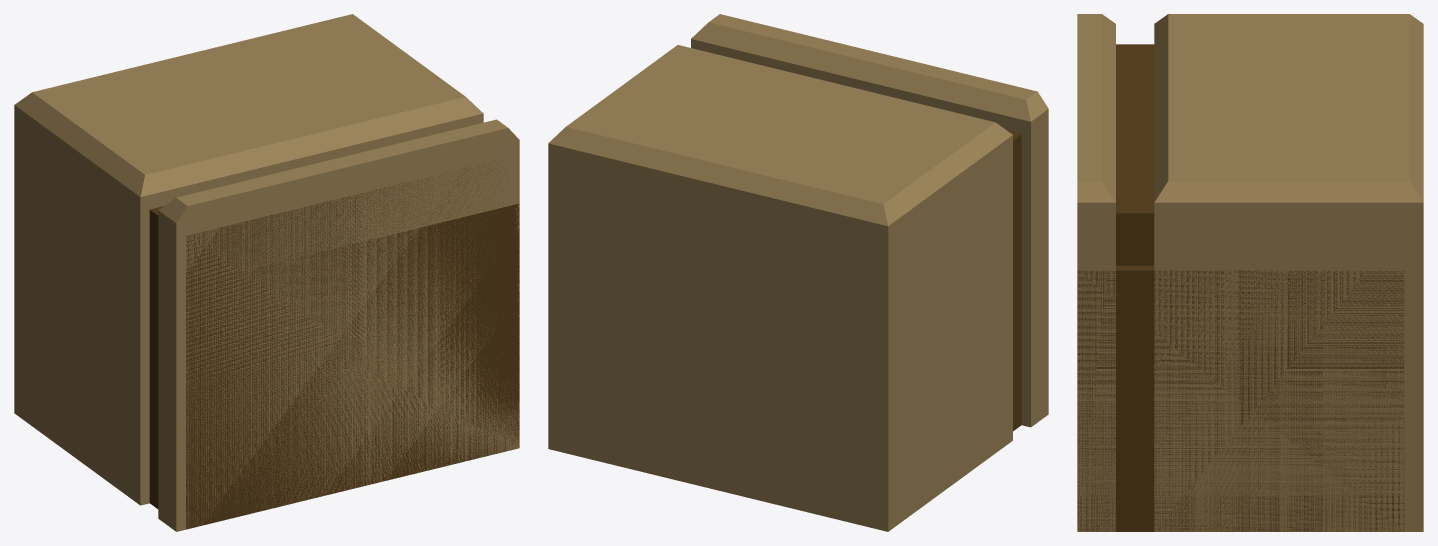
The model's file is newsha-153.glb.
3 views of the same model, side by side, from view 1: azimuth 30°, elevation 25°; view 2: azimuth 150°, elevation 25°; view 3: azimuth 270°, elevation 25° (orthographic). The views are drawn at different scales.
Parts seen in each view (by area): view 1: newsha-153; view 2: newsha-153; view 3: newsha-153.
Boxes of the visible parts, x1,y1,x2,y2 form: newsha-153: (14, 14, 519, 531); newsha-153: (548, 14, 1048, 531); newsha-153: (1077, 14, 1423, 531).
Size of the model in its own units: 0.9167 by 0.825 by 0.75.
